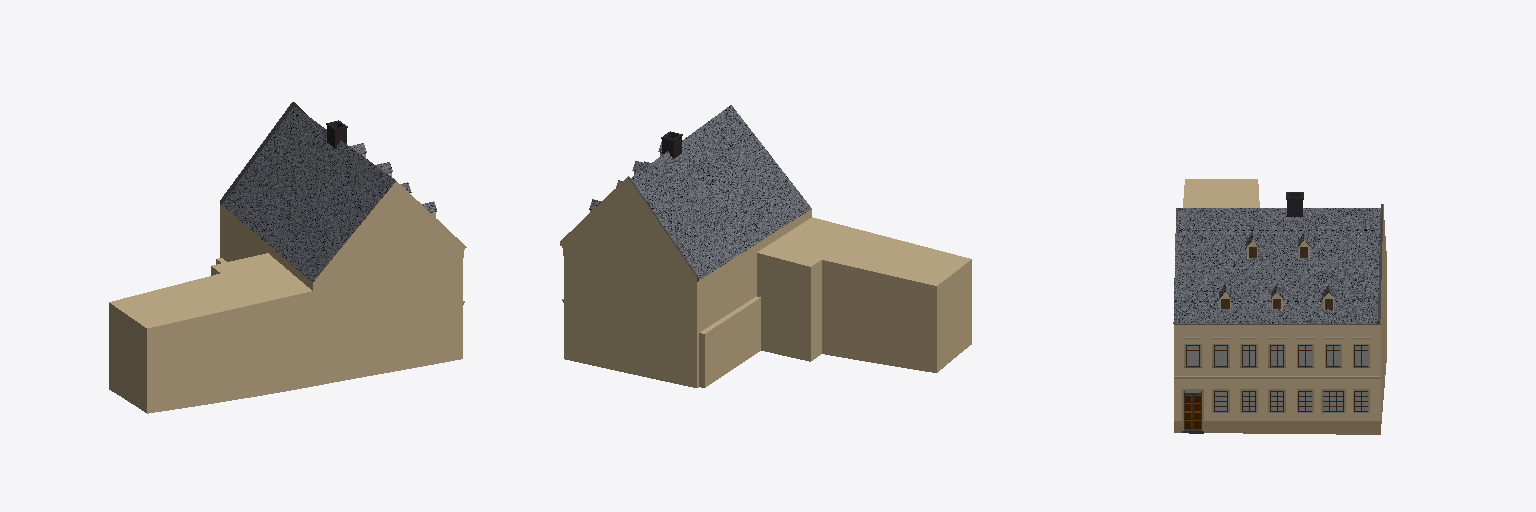
3 views of the same model, side by side, from view 1: azimuth 30°, elevation 25°; view 2: azimuth 150°, elevation 25°; view 3: azimuth 270°, elevation 25° (orthographic).
Parts seen in each view (by area): view 1: Model; view 2: Model; view 3: Model.
Part boxes in pixels (left/top/right/bottom): Model: left=109, top=102, right=466, bottom=413; Model: left=560, top=105, right=971, bottom=387; Model: left=1173, top=179, right=1386, bottom=434.
Bounding box in the file's own units: 2.72 × 1.71 × 1.59.
Materials: 16 (1 with a texture image).